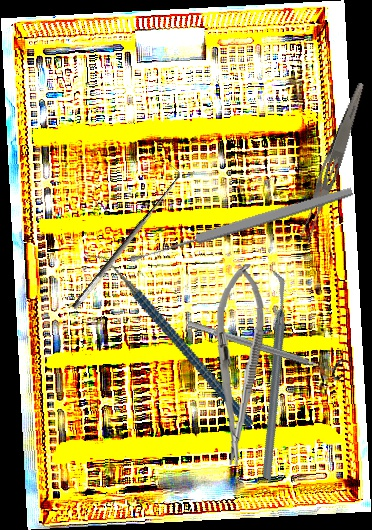Chopper: (83, 218, 255, 460), (183, 269, 360, 482)
Dressing Forceps: (295, 79, 368, 246)
Fixation Ring: (183, 311, 348, 384)
Hook Surgical: (60, 163, 188, 312)
Needle Holder: (208, 262, 268, 467)
Surgical Spoon: (128, 184, 354, 266)
